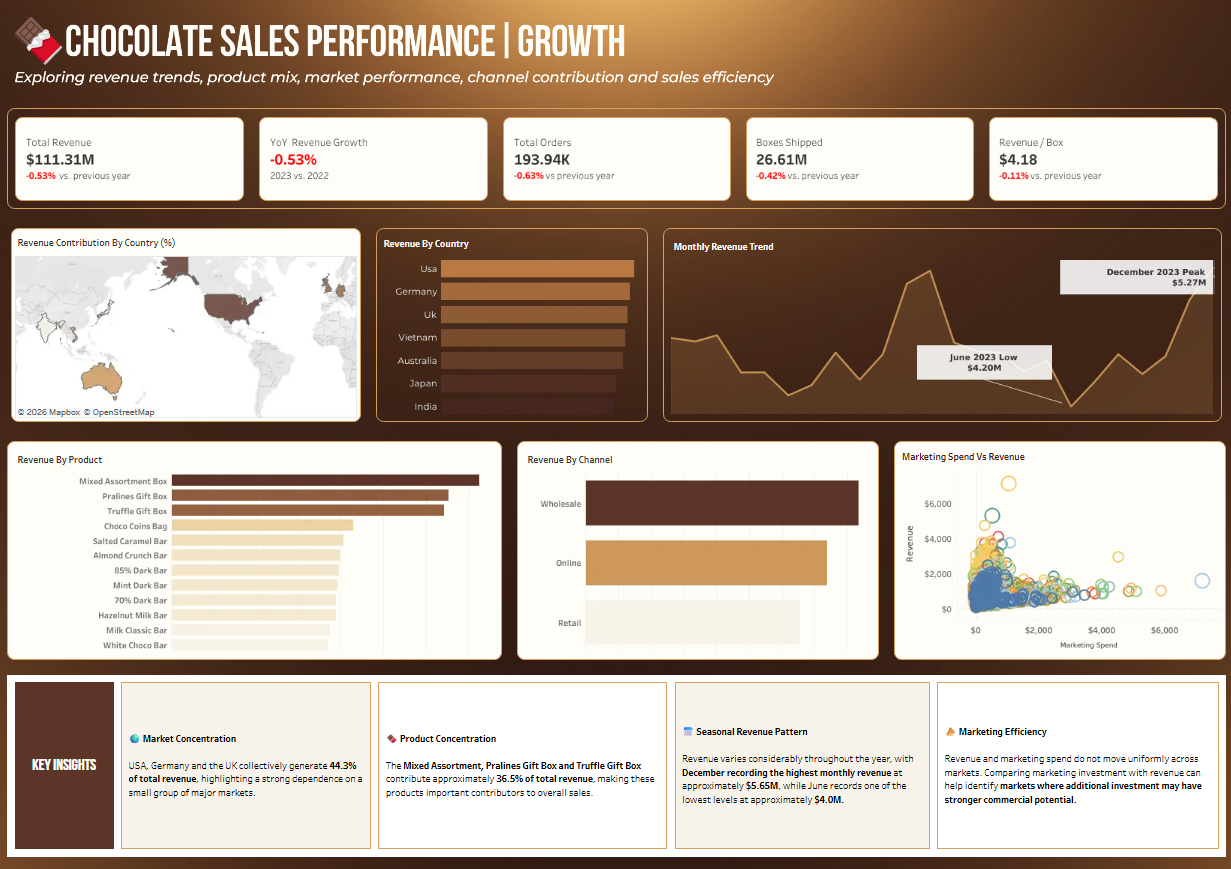

The page's visual inventory and layout, read from the dashboard file:
{"tool":"tableau","page":{"name":"Dashboard","canvas":[1654,1169],"ordinal":1},"visuals":[{"type":"image","param":"Image/background-1.png","box":[0,0,1654,1169]},{"type":"image","param":"Image/title.png","box":[20,20,1022,104]},{"type":"blank","box":[1042,20,592,104]},{"type":"worksheet","title":"What is the total sales?","mark":"Automatic","box":[32,166,293,100]},{"type":"worksheet","title":"What is the Revenue YoY Growth?","mark":"Automatic","box":[357,166,293,100]},{"type":"worksheet","title":"What is the total orders?","mark":"Automatic","box":[682,166,292,100]},{"type":"worksheet","title":"What is the total boxes shipped?","mark":"Automatic","box":[1006,166,292,100]},{"type":"worksheet","title":"What is the total Rev per Box?","mark":"Automatic","box":[1330,166,292,100]},{"type":"worksheet","title":"Revenue By Country","mark":"Automatic","rows":["country"],"cols":["amount"],"box":[497,298,383,279]},{"type":"worksheet","title":"Revenue Contribution By Country (%)","mark":"Automatic","box":[21,309,465,257]},{"type":"worksheet","title":"Monthly Revenue Trend","mark":"Area","rows":["amount","amount"],"cols":["order_date"],"box":[896,314,732,247]},{"type":"worksheet","title":"Marketing Spend Vs Revenue","mark":"Automatic","rows":["amount"],"cols":["marketing_spend"],"box":[1188.3,582,460.7,312]},{"type":"worksheet","title":"Revenue By Product","mark":"Automatic","rows":["product"],"cols":["amount"],"box":[21,598,648,280]},{"type":"worksheet","title":"Revenue By Channel","mark":"Automatic","rows":["channel"],"cols":["amount"],"box":[701,598,471.3,280]},{"type":"text","box":[25,914,132,223]},{"type":"text","box":[173,920,321,211]},{"type":"text","box":[516,920,373,211]},{"type":"text","box":[911,920,328,211]},{"type":"text","box":[1261,920,362,211]}]}

Visuals, with their boxes in screenshot pixels (x1, y1, x2, y2), scaled from the page's 1654x1169 canvas onto the 1231x869 screenshot:
image: left=0, top=0, right=1230, bottom=868
image: left=15, top=15, right=776, bottom=92
blank: left=776, top=15, right=1216, bottom=92
"What is the total sales?" worksheet: left=24, top=123, right=242, bottom=198
"What is the Revenue YoY Growth?" worksheet: left=266, top=123, right=484, bottom=198
"What is the total orders?" worksheet: left=508, top=123, right=725, bottom=198
"What is the total boxes shipped?" worksheet: left=749, top=123, right=966, bottom=198
"What is the total Rev per Box?" worksheet: left=990, top=123, right=1207, bottom=198
"Revenue By Country" worksheet: left=370, top=222, right=655, bottom=429
"Revenue Contribution By Country (%)" worksheet: left=16, top=230, right=362, bottom=421
"Monthly Revenue Trend" worksheet (Area marks): left=667, top=233, right=1212, bottom=417
"Marketing Spend Vs Revenue" worksheet: left=884, top=433, right=1227, bottom=665
"Revenue By Product" worksheet: left=16, top=445, right=498, bottom=653
"Revenue By Channel" worksheet: left=522, top=445, right=872, bottom=653
text: left=19, top=679, right=117, bottom=845
text: left=129, top=684, right=368, bottom=841
text: left=384, top=684, right=662, bottom=841
text: left=678, top=684, right=922, bottom=841
text: left=939, top=684, right=1208, bottom=841
